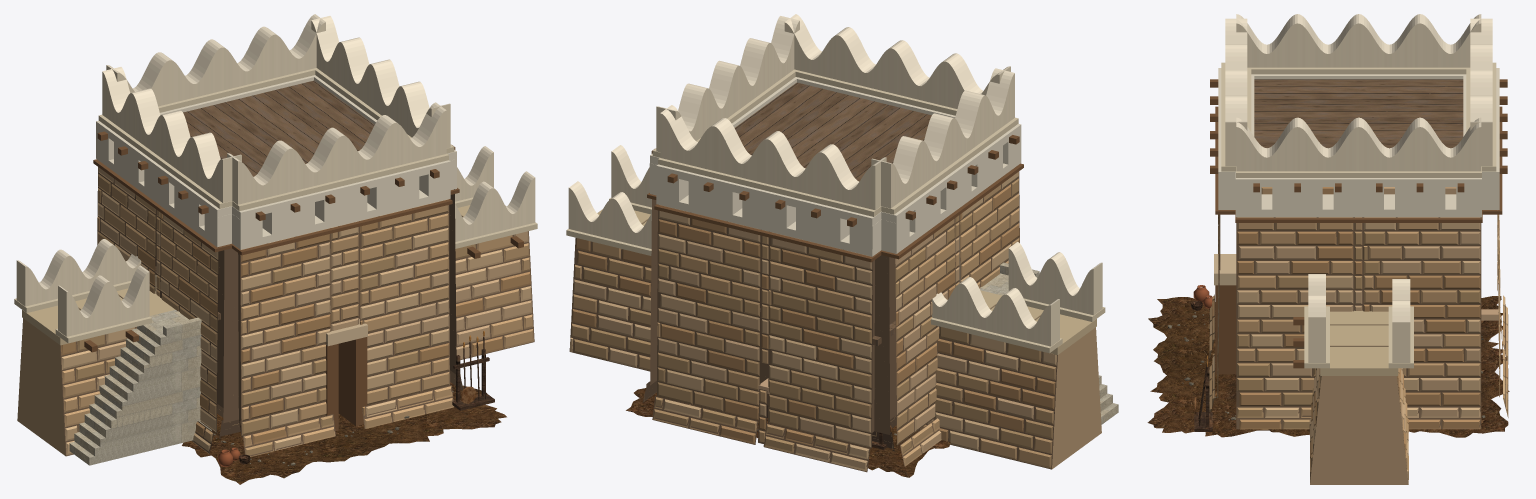
Rendered from stonetower.glb.
3 views of the same model, side by side, from view 1: azimuth 30°, elevation 25°; view 2: azimuth 150°, elevation 25°; view 3: azimuth 270°, elevation 25° (orthographic). The views are drawn at different scales.
Parts seen in each view (by area): view 1: part_2, part_5, part_1, part_21, part_26, part_14, part_8, part_28, part_27, part_3, part_30, part_23 (+8 smaller); view 2: part_2, part_5, part_21, part_22, part_28, part_8, part_23, part_14, part_27, part_3, part_29, part_1 (+5 smaller); view 3: part_2, part_5, part_21, part_14, part_24, part_8, part_10, part_29, part_25, part_26, part_22, part_28 (+7 smaller).
Part boxes in pixels (x1,y1,x2,y2): part_2: (17,167,534,456); part_5: (16,14,535,336); part_1: (69,310,211,465); part_21: (155,80,374,436); part_26: (232,160,450,249); part_14: (182,382,506,484); part_8: (84,131,523,431); part_28: (96,120,231,247); part_27: (232,153,448,211); part_3: (22,282,175,345); part_30: (452,337,494,410); part_23: (158,68,317,112); part_2: (569,171,1101,472); part_5: (568,14,1102,346); part_21: (734,82,931,345); part_22: (656,164,881,256); part_28: (881,123,1021,253); part_8: (647,135,1023,262); part_23: (658,158,881,216); part_14: (626,388,950,477); part_27: (793,69,957,115); part_3: (980,290,1096,355); part_29: (881,117,1018,214); part_1: (980,262,1118,424); part_2: (1209,187,1508,484); part_5: (1225,14,1492,362); part_21: (1254,79,1463,148); part_14: (1147,296,1509,437); part_24: (1235,172,1481,217); part_8: (1210,79,1507,374); part_10: (1320,310,1398,375); part_29: (1247,67,1469,74); part_25: (1236,166,1481,177); part_26: (1218,68,1254,209); part_22: (1463,68,1499,209); part_28: (1254,74,1465,79).
Size of the model in its own units: 9.88 by 5.91 by 6.71.
Materials: 21 (10 with a texture image).
